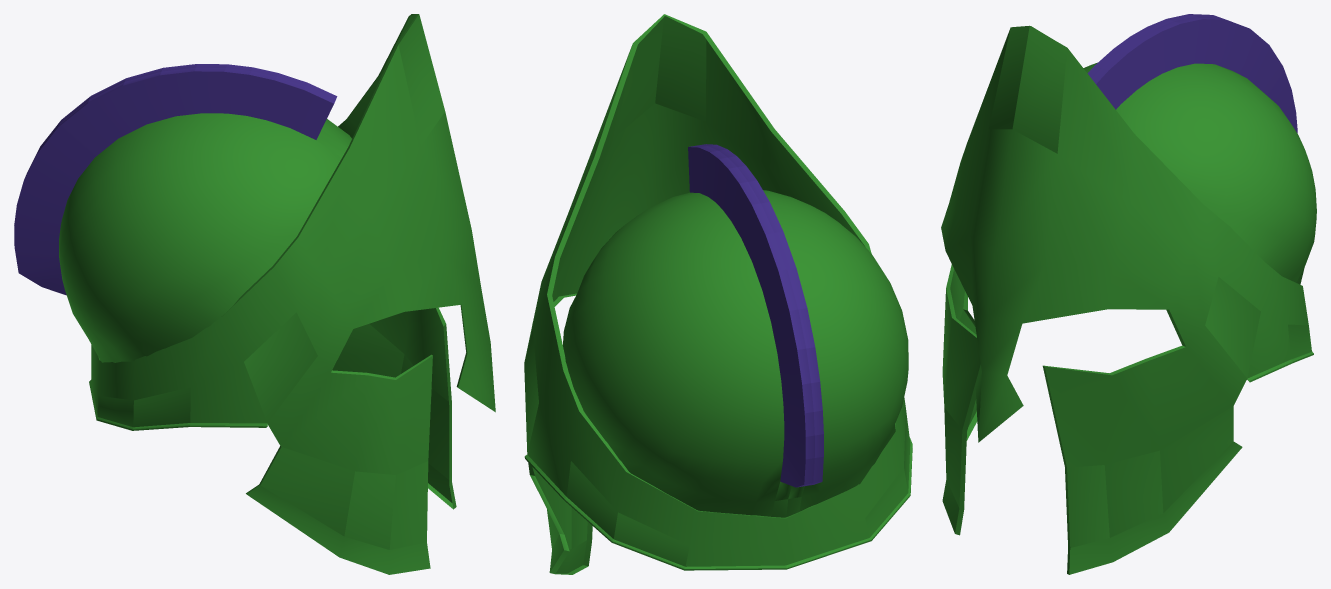
The model's file is helmet.FBX.
3 views of the same model, side by side, from view 1: azimuth 30°, elevation 25°; view 2: azimuth 150°, elevation 25°; view 3: azimuth 270°, elevation 25° (orthographic). The views are drawn at different scales.
Visible parts, largest first — view 1: helmet; view 2: helmet; view 3: helmet.
Part boxes in pixels (x1,y1,x2,y2): helmet: (14,14,495,574); helmet: (524,14,912,574); helmet: (941,14,1316,574).
Size of the model in its own units: 37.99 by 55.94 by 36.48.
